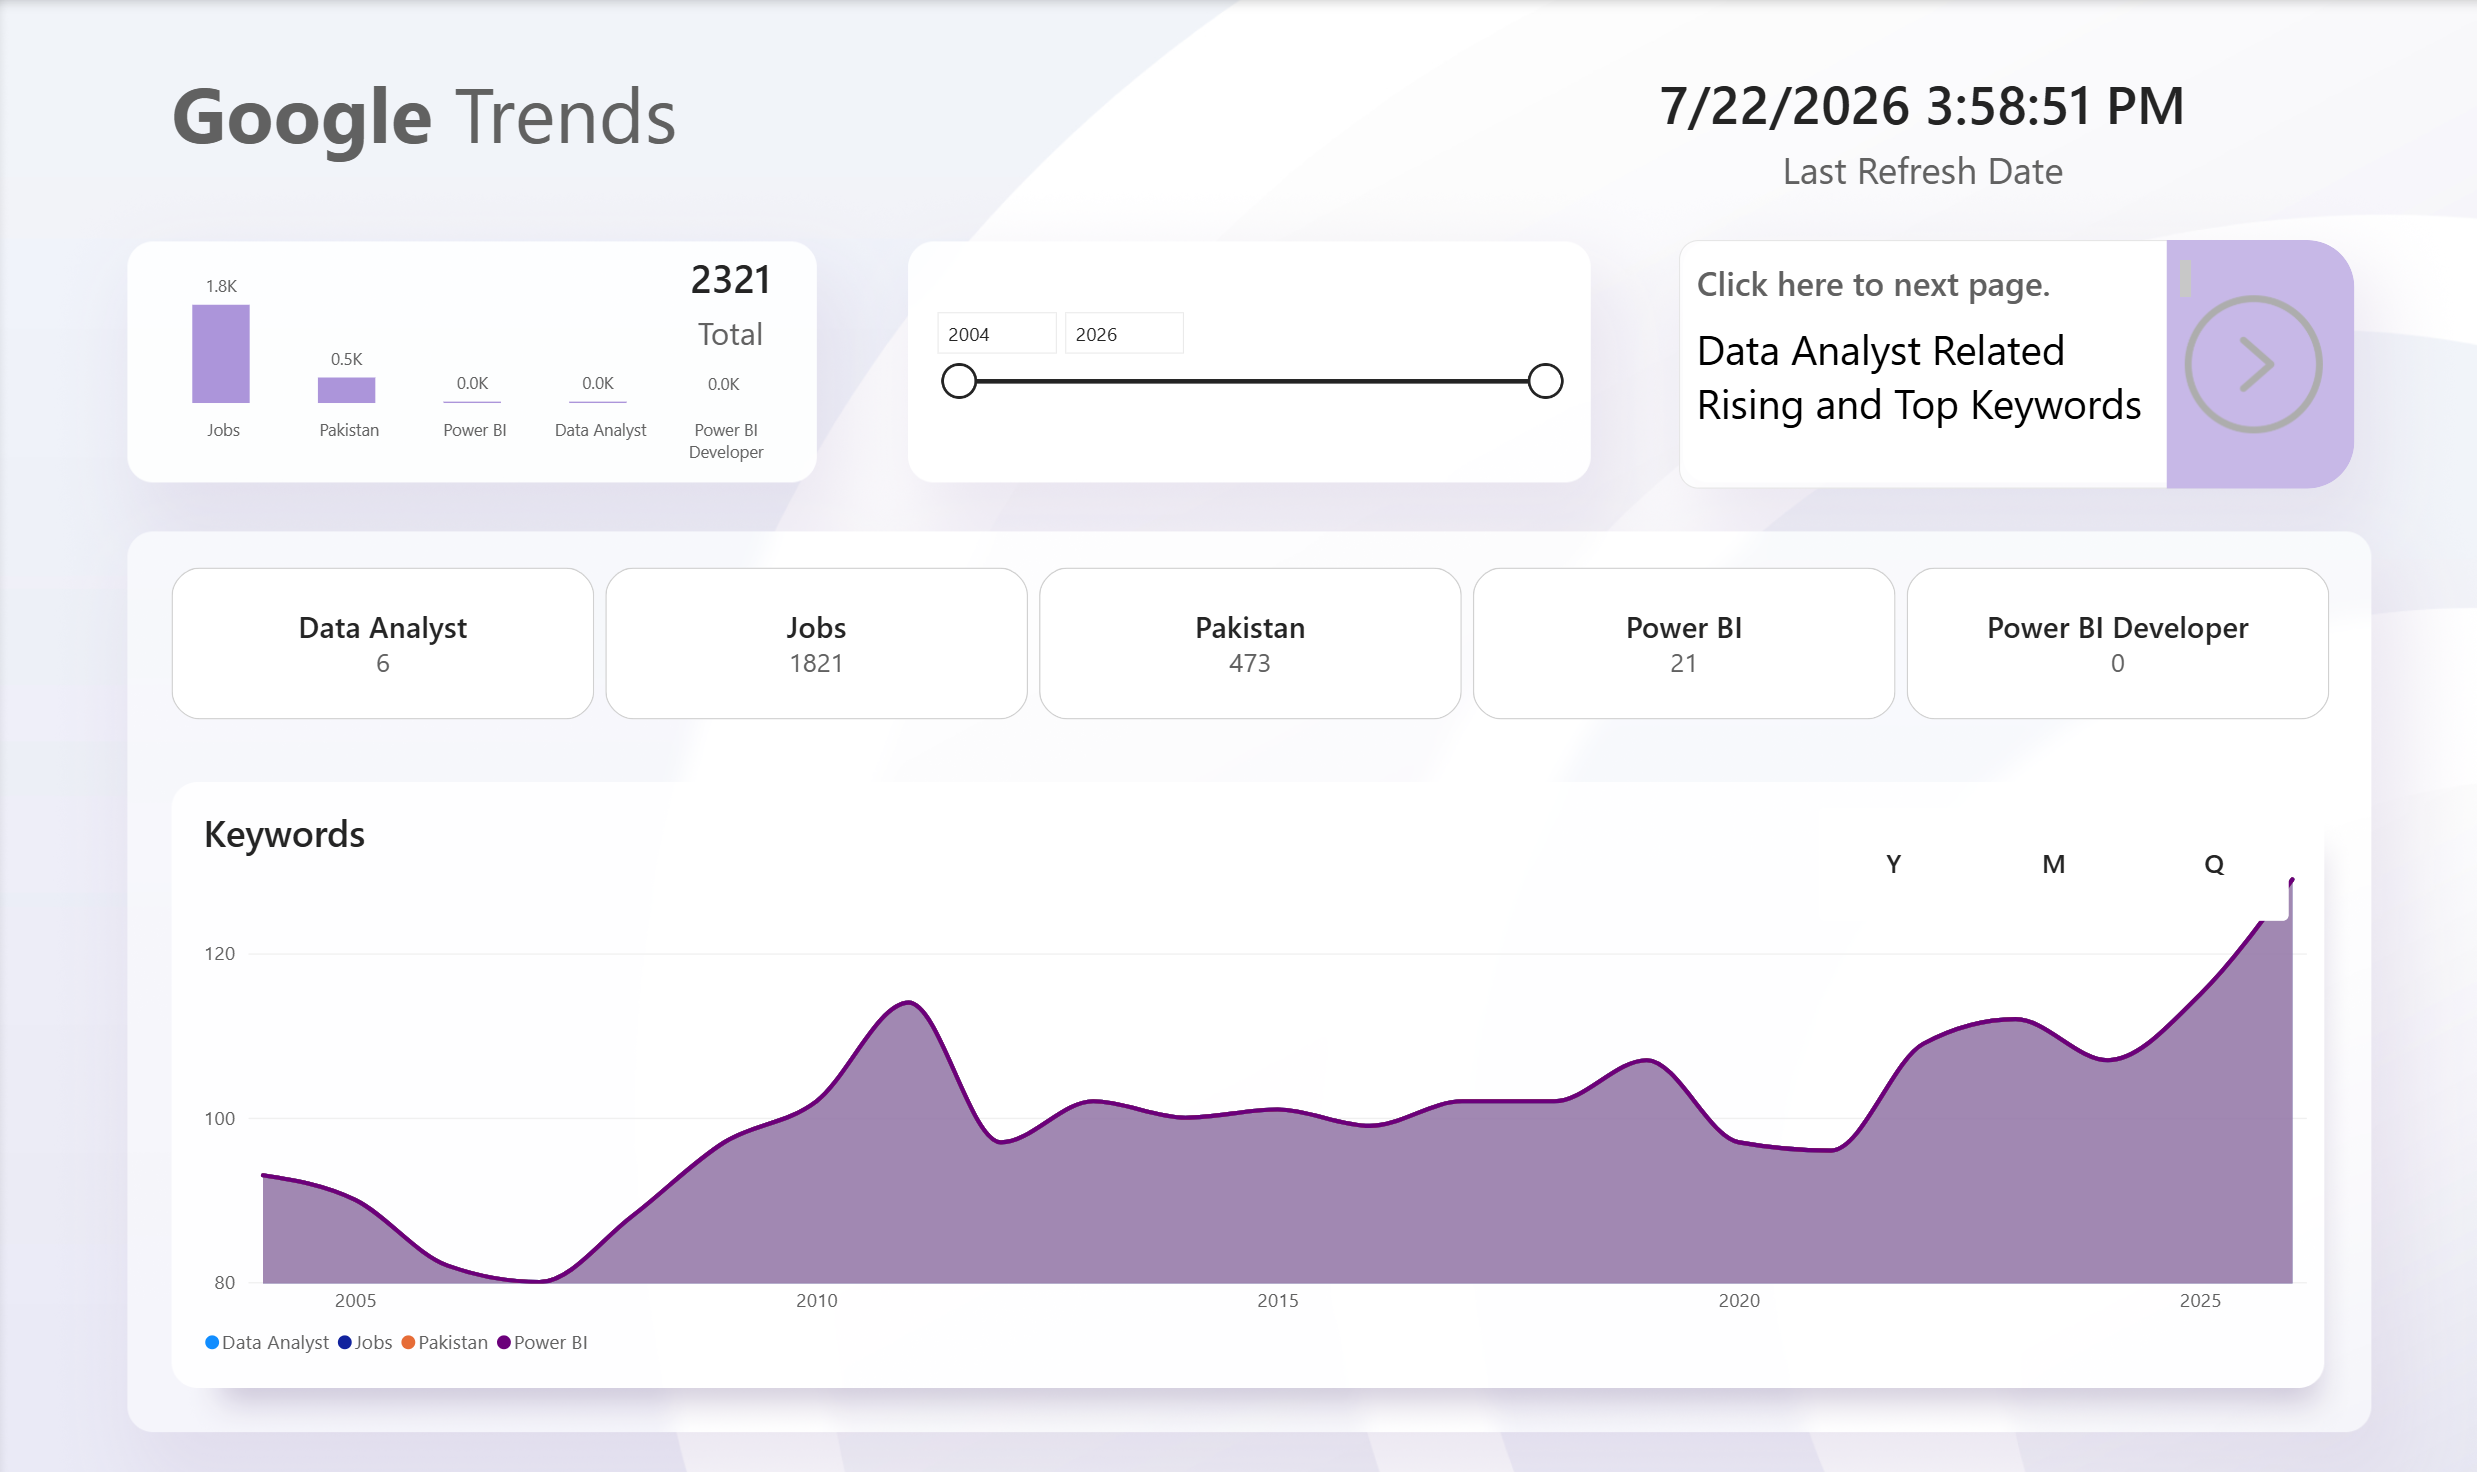

The page's visual inventory and layout, read from the dashboard file:
{"tool":"powerbi","page":{"name":"Kewords by Date","canvas":[1920,1080],"ordinal":1},"visuals":[{"type":"areaChart","title":"Keywords","fields":{"Category":["By_Date_API.Year","By_Date_API.Month-Yr","By_Date_API.Quaterly"],"Y":["By_Date_API.by_date_value"],"Series":["Country_API.Keywords"]},"box":[258,570,1560,432],"z":0},{"type":"advancedSlicerVisual","fields":{"Values":["dynamic_date.dynamic_date"]},"box":[1444,584,342,82],"z":1000},{"type":"advancedSlicerVisual","fields":{"Values":["By_Date_API.Keyword"]},"box":[252,410,1566,110],"z":2000},{"type":"clusteredColumnChart","fields":{"Y":["By_Date_API.by_date_value"],"Category":["By_Date_API.Keyword"]},"box":[188,174,540,180],"z":3000},{"type":"card","title":"Total","fields":{"Values":["By_Date_API.by_date_value"]},"box":[568,144,176,146],"z":4000},{"type":"slicer","fields":{"Values":["By_Date_API.Year"]},"box":[798,220,464,140],"z":5000},{"type":"shape","box":[1342,174,406,180],"z":6000},{"type":"actionButton","box":[1696,174,136,180],"z":7000},{"type":"textbox","box":[1356,188,358,50],"z":8000},{"type":"textbox","box":[252,44,520,100],"z":9000},{"type":"card","fields":{"Values":["Min(Refresh_Date.Date)"]},"box":[1118,18,802,150],"z":10000},{"type":"shape","box":[1356,188,326,166],"z":11000}]}

Visuals, with their boxes on the page's 1920x1080 design canvas (x1, y1, x2, y2). These are canvas units, not pixel positions in the 2477x1472 screenshot, which may show the page scaled, cropped or inside an application window:
"Keywords" areaChart: Rect(258, 570, 1818, 1002)
advancedSlicerVisual - dynamic_date.dynamic_date: Rect(1444, 584, 1786, 666)
advancedSlicerVisual - By_Date_API.Keyword: Rect(252, 410, 1818, 520)
clusteredColumnChart - By_Date_API.by_date_value x By_Date_API.Keyword: Rect(188, 174, 728, 354)
"Total" card: Rect(568, 144, 744, 290)
slicer - By_Date_API.Year: Rect(798, 220, 1262, 360)
shape: Rect(1342, 174, 1748, 354)
actionButton: Rect(1696, 174, 1832, 354)
textbox: Rect(1356, 188, 1714, 238)
textbox: Rect(252, 44, 772, 144)
card - Min(Refresh_Date.Date): Rect(1118, 18, 1920, 168)
shape: Rect(1356, 188, 1682, 354)
